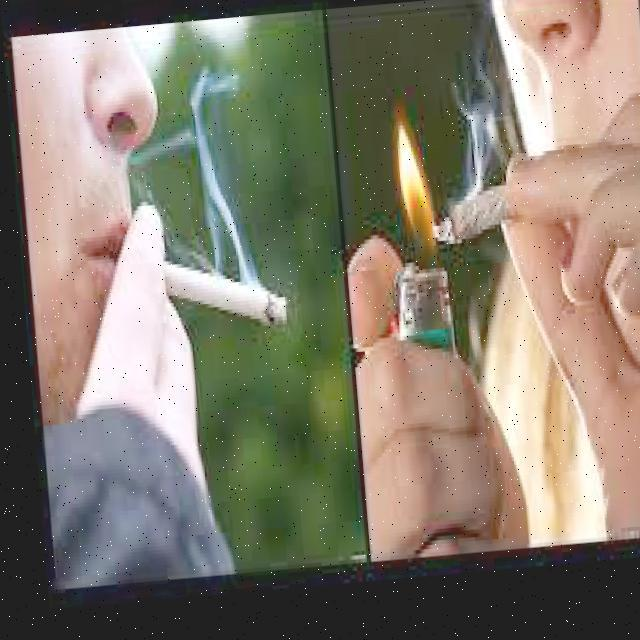Fire: (380, 127, 440, 264)
